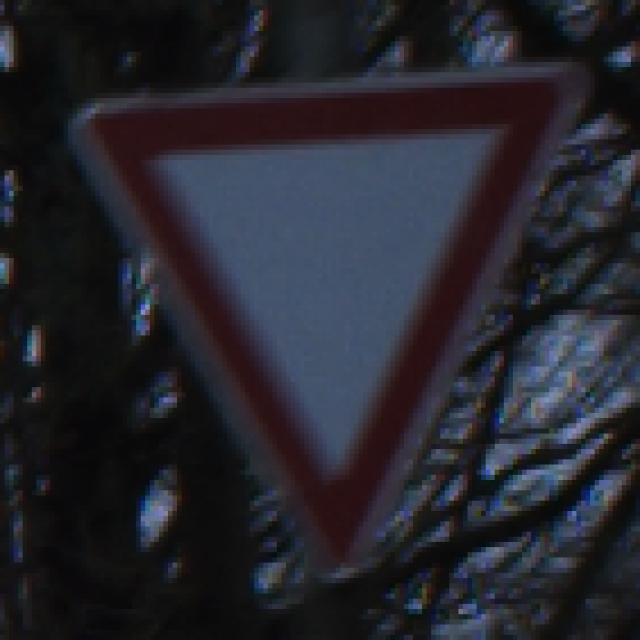Give Way: (60, 53, 587, 590)
